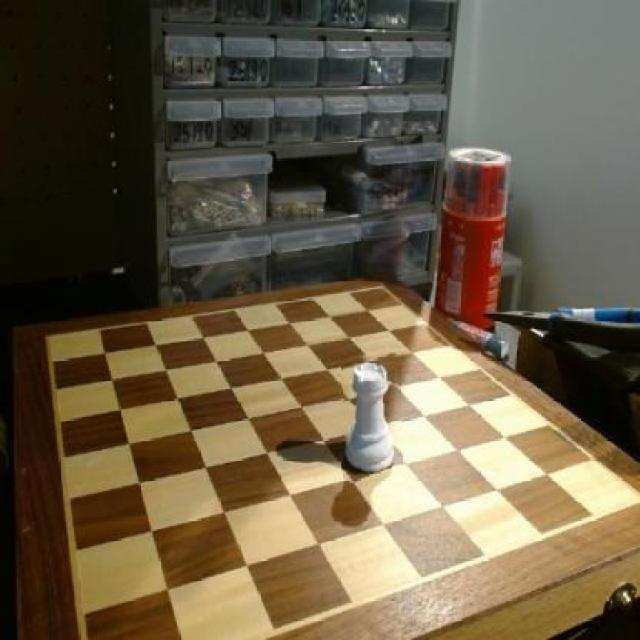white-queen: (343, 354, 403, 481)
